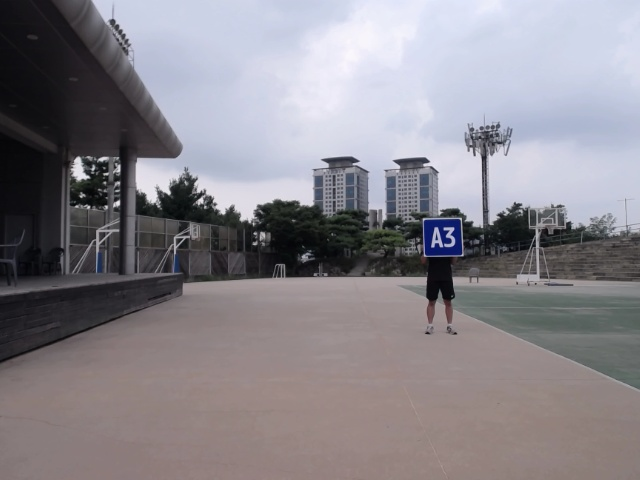delivery_a3: (423, 217, 464, 256)
